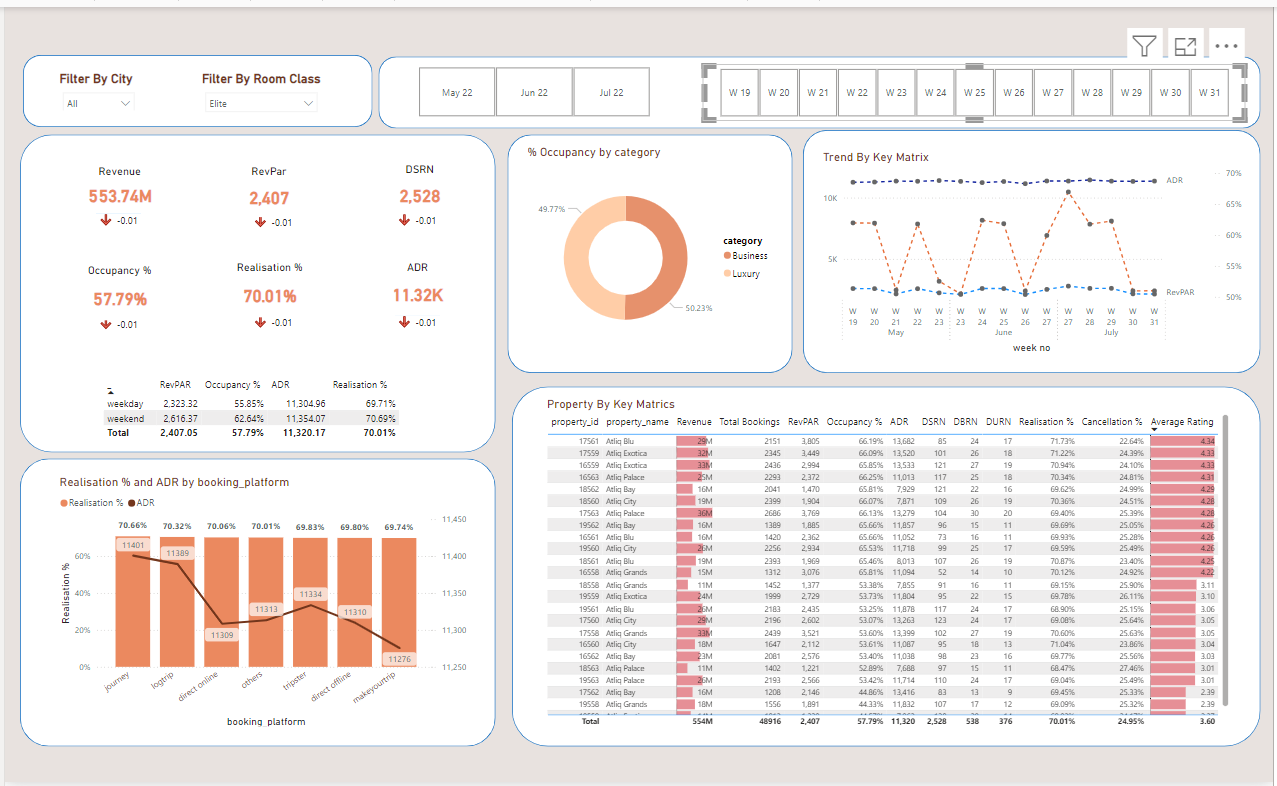

The dashboard page shown, as its layout file describes it:
{"tool":"powerbi","page":{"name":"Page 1","canvas":[1800,1100],"ordinal":0},"visuals":[{"type":"shape","box":[530.2,70.3,1252.1,102.2],"z":0},{"type":"slicer","title":"Filter By City","fields":{"Values":["dim_date.mmm yy"]},"box":[562.1,78.8,376.9,83],"z":2000},{"type":"slicer","fields":{"Values":["dim_date.week no"]},"box":[990.1,80.9,770.8,80.9],"z":3000},{"type":"shape","box":[25.6,68.1,496.1,102.2],"z":4000},{"type":"shape","box":[21.3,181,675,451.4],"z":5000},{"type":"slicer","title":"Filter By City","fields":{"Values":["dim_hotels.city"]},"box":[72.4,91.6,121.4,55.4],"z":6000},{"type":"slicer","title":"Filter By Room Class","fields":{"Values":["dim_rooms.room_class"]},"box":[274.7,91.6,178.9,61.8],"z":7000},{"type":"tableEx","fields":{"Values":["key_measures.Revenue WoW change %"]},"box":[342.8,266.2,89.4,61.8],"z":8000},{"type":"tableEx","fields":{"Values":["key_measures.Revenue WoW change %"]},"box":[123.5,264,78.8,55.4],"z":9000},{"type":"tableEx","fields":{"Values":["key_measures.Revenue WoW change %"]},"box":[547.2,264,87.3,63.9],"z":10000},{"type":"card","title":"RevPar","fields":{"Values":["key_measures.RevPAR"]},"box":[317.3,223.6,115,74.5],"z":11000},{"type":"tableEx","fields":{"Values":["key_measures.Revenue WoW change %"]},"box":[123.5,411,78.8,68.1],"z":12000},{"type":"tableEx","fields":{"Values":["key_measures.Revenue WoW change %"]},"box":[342.8,408.8,78.8,70.3],"z":13000},{"type":"tableEx","fields":{"Values":["key_measures.Revenue WoW change %"]},"box":[547.2,408.8,87.3,61.8],"z":14000},{"type":"card","title":"Realisation %","fields":{"Values":["key_measures.Realisation %"]},"box":[310.9,359.9,129.9,80.9],"z":15000},{"type":"card","title":"Occupancy %","fields":{"Values":["key_measures.Occupancy %"]},"box":[100.1,364.1,125.6,80.9],"z":16000},{"type":"card","title":"Revenue","fields":{"Values":["key_measures.Revenue"]},"box":[89.4,223.6,146.9,70.3],"z":17000},{"type":"card","title":"DSRN","fields":{"Values":["key_measures.DSRN"]},"box":[521.7,221.5,134.1,72.4],"z":18000},{"type":"card","title":"ADR","fields":{"Values":["key_measures.ADR"]},"box":[515.3,359.9,140.5,78.8],"z":19000},{"type":"shape","box":[1132.8,174.6,649.5,345],"z":20000},{"type":"lineChart","title":"Trend By Key Matrix","fields":{"Category":["dim_date.mmm yy.Variation.Date Hierarchy.Month","dim_date.week no"],"Y":["key_measures.RevPAR","key_measures.ADR"],"Y2":["key_measures.Occupancy %"]},"box":[1156.2,202.3,604.7,293.9],"z":21000},{"type":"shape","box":[1020,604.7,423.7,345],"z":22000},{"type":"shape","box":[713.3,181,404.6,338.6],"z":24000},{"type":"tableEx","fields":{"Values":["dim_date.day_type","key_measures.RevPAR","key_measures.Occupancy %","key_measures.ADR","key_measures.Realisation %"]},"box":[134.1,519.6,449.3,102.2],"z":26000},{"type":"shape","box":[719.7,538.7,1062.5,511],"z":27000},{"type":"tableEx","title":"Property By Key Matrics","fields":{"Values":["dim_hotels.property_id","dim_hotels.property_name","key_measures.Revenue","key_measures.Total Bookings","key_measures.RevPAR","key_measures.Occupancy %","key_measures.ADR","key_measures.DSRN","key_measures.DBRN","key_measures.DURN","key_measures.Realisation %","key_measures.Cancellation %"]},"box":[764.4,553.6,977.4,472.7],"z":27500},{"type":"donutChart","title":"   % Occupancy by category","fields":{"Category":["dim_hotels.category"],"Y":["key_measures.Occupancy %"]},"box":[736.8,195.9,362,300.2],"z":28000},{"type":"shape","box":[21.3,640.9,675,408.8],"z":34001},{"type":"lineStackedColumnComboChart","fields":{"Category":["fact_bookings.booking_platform"],"Y":["key_measures.Realisation %"],"Y2":["key_measures.ADR"]},"box":[72.4,664.4,587.7,362],"z":34501}]}

Visuals, with their boxes in screenshot pixels (x1, y1, x2, y2), scaled from the page's 1800x1100 canvas onto the 1277x786 screenshot:
shape: <bbox>376, 50, 1264, 123</bbox>
"Filter By City" slicer: <bbox>399, 56, 666, 116</bbox>
slicer - dim_date.week no: <bbox>702, 58, 1249, 116</bbox>
shape: <bbox>18, 49, 370, 122</bbox>
shape: <bbox>15, 129, 494, 452</bbox>
"Filter By City" slicer: <bbox>51, 65, 137, 105</bbox>
"Filter By Room Class" slicer: <bbox>195, 65, 322, 110</bbox>
tableEx - key_measures.Revenue WoW change %: <bbox>243, 190, 307, 234</bbox>
tableEx - key_measures.Revenue WoW change %: <bbox>88, 189, 144, 228</bbox>
tableEx - key_measures.Revenue WoW change %: <bbox>388, 189, 450, 234</bbox>
"RevPar" card: <bbox>225, 160, 307, 213</bbox>
tableEx - key_measures.Revenue WoW change %: <bbox>88, 294, 144, 342</bbox>
tableEx - key_measures.Revenue WoW change %: <bbox>243, 292, 299, 342</bbox>
tableEx - key_measures.Revenue WoW change %: <bbox>388, 292, 450, 336</bbox>
"Realisation %" card: <bbox>221, 257, 313, 315</bbox>
"Occupancy %" card: <bbox>71, 260, 160, 318</bbox>
"Revenue" card: <bbox>63, 160, 168, 210</bbox>
"DSRN" card: <bbox>370, 158, 465, 210</bbox>
"ADR" card: <bbox>366, 257, 465, 313</bbox>
shape: <bbox>804, 125, 1264, 371</bbox>
"Trend By Key Matrix" lineChart: <bbox>820, 145, 1249, 355</bbox>
shape: <bbox>724, 432, 1024, 679</bbox>
shape: <bbox>506, 129, 793, 371</bbox>
tableEx - dim_date.day_type x key_measures.RevPAR: <bbox>95, 371, 414, 444</bbox>
shape: <bbox>511, 385, 1264, 750</bbox>
"Property By Key Matrics" tableEx: <bbox>542, 396, 1236, 733</bbox>
"   % Occupancy by category" donutChart: <bbox>523, 140, 780, 354</bbox>
shape: <bbox>15, 458, 494, 750</bbox>
lineStackedColumnComboChart - fact_bookings.booking_platform x key_measures.Realisation %: <bbox>51, 475, 468, 733</bbox>
